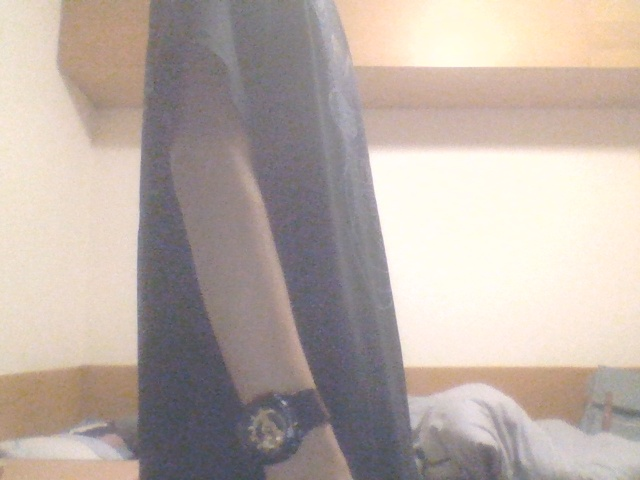human: (139, 1, 413, 480)
